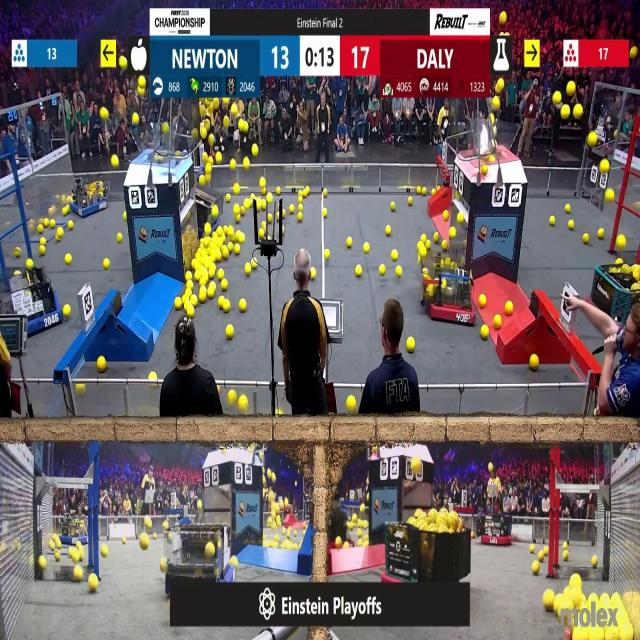ball_airborne: (412, 458, 422, 473), (566, 83, 576, 97), (588, 133, 598, 147), (572, 105, 581, 119), (618, 236, 627, 250), (600, 161, 609, 174), (604, 188, 613, 201), (562, 105, 570, 119), (239, 119, 248, 131), (554, 92, 562, 105), (492, 97, 500, 110), (118, 57, 126, 70), (496, 79, 503, 93), (200, 128, 208, 140), (212, 98, 220, 110), (111, 156, 118, 169), (272, 502, 280, 513), (268, 491, 276, 502), (232, 103, 239, 115), (134, 114, 140, 128), (200, 105, 207, 117), (215, 151, 222, 162), (101, 108, 108, 119), (252, 144, 258, 156), (500, 11, 506, 23), (163, 124, 170, 134), (139, 76, 146, 86), (138, 88, 145, 98), (200, 176, 207, 186), (482, 166, 489, 176), (205, 165, 212, 175), (209, 135, 215, 146), (223, 116, 229, 127), (192, 129, 198, 140), (259, 177, 265, 188), (244, 158, 250, 168), (222, 98, 229, 106), (490, 112, 496, 121), (231, 161, 237, 170), (488, 463, 494, 472), (235, 184, 241, 193), (203, 152, 209, 160), (201, 120, 206, 127), (492, 128, 497, 134)
ball_ground: (542, 591, 553, 612), (90, 576, 99, 594), (530, 354, 539, 370), (238, 395, 248, 409), (348, 396, 357, 411), (570, 574, 580, 587), (98, 356, 106, 371), (140, 534, 148, 549), (408, 338, 416, 352), (482, 324, 490, 338), (74, 566, 82, 580), (228, 388, 236, 402), (225, 325, 233, 338), (505, 302, 512, 316), (186, 306, 194, 318), (38, 557, 46, 569), (244, 265, 252, 277), (630, 46, 638, 58), (494, 315, 501, 328), (532, 561, 539, 574), (208, 285, 215, 298), (238, 233, 246, 244), (72, 551, 80, 562), (240, 300, 247, 312), (355, 266, 362, 278), (222, 302, 229, 314), (175, 300, 182, 312), (208, 270, 216, 280), (443, 240, 450, 251), (450, 228, 457, 239), (27, 260, 34, 271), (200, 291, 207, 302), (101, 544, 108, 555), (221, 249, 228, 260), (592, 556, 598, 568), (64, 306, 70, 318), (363, 242, 369, 254), (162, 560, 168, 572), (58, 229, 64, 241), (221, 280, 227, 292), (205, 222, 211, 234), (217, 270, 224, 280), (185, 272, 192, 282), (190, 294, 197, 304), (419, 248, 426, 258), (232, 557, 239, 567), (255, 201, 262, 211), (215, 251, 222, 261), (584, 234, 590, 245), (396, 267, 402, 278), (310, 269, 316, 280), (150, 370, 156, 381), (457, 214, 464, 223), (115, 234, 122, 243), (380, 266, 386, 276), (66, 254, 72, 264), (236, 244, 242, 254), (347, 238, 353, 248), (481, 294, 486, 306), (598, 230, 604, 240), (322, 208, 328, 218), (392, 250, 398, 260), (104, 258, 110, 268), (258, 230, 264, 240), (390, 202, 396, 212), (145, 518, 151, 528), (218, 296, 224, 306), (551, 216, 557, 226), (337, 536, 342, 548), (268, 192, 274, 202), (200, 278, 207, 286), (244, 201, 251, 209), (39, 247, 45, 256), (568, 220, 574, 229), (432, 234, 438, 243), (186, 280, 192, 289), (564, 205, 570, 214), (193, 272, 199, 281), (227, 242, 233, 251), (62, 207, 68, 216), (222, 225, 228, 234), (44, 218, 50, 227), (216, 226, 222, 235), (386, 224, 391, 234), (445, 210, 450, 220), (538, 552, 543, 562), (191, 261, 196, 271), (68, 221, 74, 229), (296, 213, 302, 221), (164, 522, 170, 530), (35, 224, 41, 232), (235, 206, 241, 214), (422, 187, 428, 195), (182, 294, 188, 302), (324, 249, 329, 258), (563, 552, 568, 561), (56, 553, 61, 562), (297, 192, 302, 201), (236, 215, 242, 222), (296, 205, 302, 212), (418, 242, 424, 249), (344, 541, 350, 548), (530, 543, 535, 551), (322, 188, 327, 196), (289, 206, 294, 214), (269, 214, 274, 222), (543, 544, 547, 554), (358, 531, 363, 539), (359, 504, 364, 512), (225, 193, 230, 201), (14, 250, 19, 258), (304, 188, 309, 196), (276, 211, 281, 219), (409, 198, 413, 207), (252, 263, 256, 272), (426, 240, 430, 249), (40, 239, 45, 246), (563, 541, 568, 548), (421, 235, 426, 242), (277, 187, 282, 194), (122, 212, 126, 220), (216, 385, 220, 393), (50, 220, 54, 228), (241, 207, 245, 215), (282, 210, 286, 218), (121, 536, 125, 543), (431, 188, 435, 195), (417, 186, 421, 193), (418, 255, 422, 262), (152, 533, 156, 539)
goal: (126, 126, 184, 162), (467, 122, 521, 160)
robot_blue: (5, 267, 60, 336), (71, 175, 110, 218), (58, 516, 88, 546)
robot_red: (384, 514, 447, 582), (421, 255, 473, 323), (591, 261, 638, 322), (481, 516, 514, 546)
